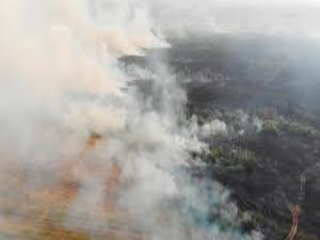smoke: (143, 164, 275, 239), (152, 100, 245, 158), (97, 15, 174, 70)
